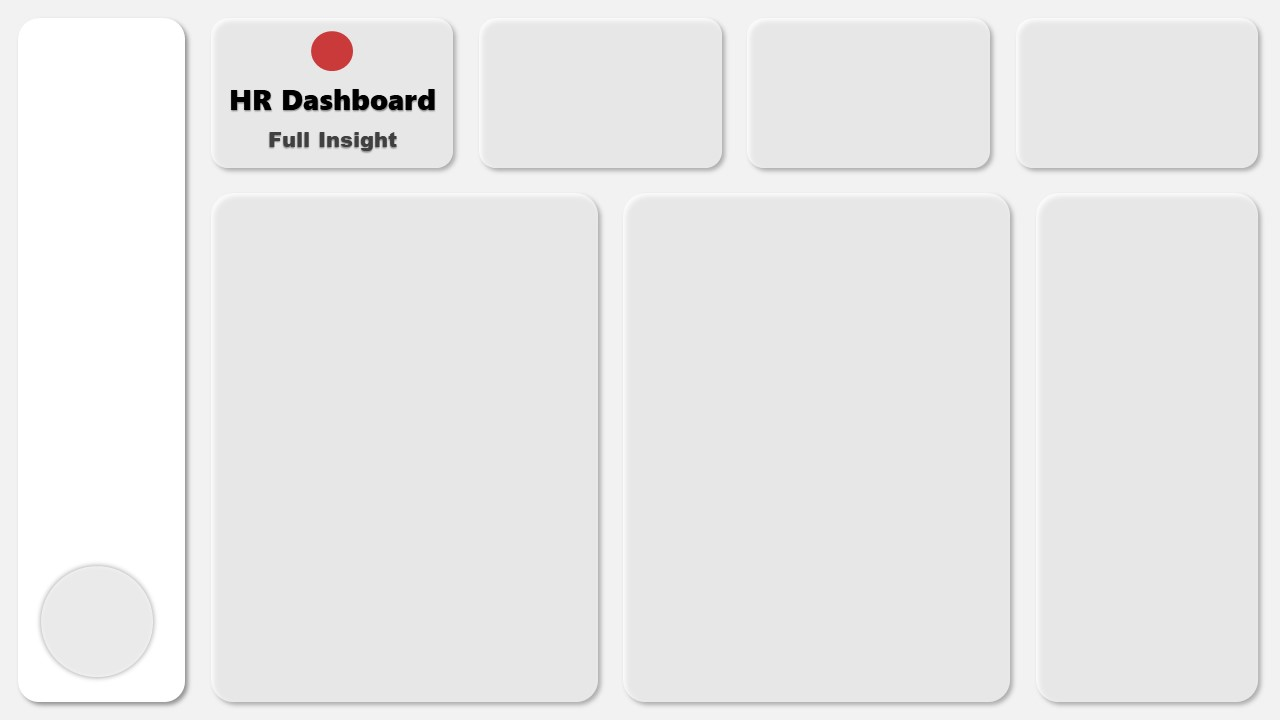

This screenshot's page, from the dashboard's own definition file:
{"tool":"powerbi","page":{"name":"Action","canvas":[1280,720],"ordinal":1},"visuals":[{"type":"card","title":"Total Employees","fields":{"Values":["All Measures.Total # of Emp"]},"box":[496,32,208,128],"z":0},{"type":"image","box":[768,32,80,112],"z":1000},{"type":"card","title":"Total Males","fields":{"Values":["All Measures.Total # of Males"]},"box":[864,32,112,80],"z":2000},{"type":"card","title":"Total Employees","fields":{"Values":["All Measures.% of Males"]},"box":[880,112,80,48],"z":3000},{"type":"image","box":[1040,32,80,112],"z":4000},{"type":"card","title":"Total Females","fields":{"Values":["All Measures.Total # of Females"]},"box":[1120,32,128,80],"z":5000},{"type":"card","title":"Total Employees","fields":{"Values":["All Measures.% of Females"]},"box":[1136,112,96,48],"z":6000},{"type":"tableEx","title":"Employees to be promoted","fields":{"Values":["HR Analytics Data.Emplyee name"]},"box":[224,208,368,496],"z":7000},{"type":"tableEx","title":"Employees to be retrenched","fields":{"Values":["HR Analytics Data.Emplyee name"]},"box":[640,208,368,480],"z":8000},{"type":"textbox","box":[1040,320,224,272],"z":9000},{"type":"pageNavigator","box":[32,256,144,176],"z":10000}]}

Visuals, with their boxes in screenshot pixels (x1, y1, x2, y2), scaled from the page's 1280x720 canvas onto the 1280x720 screenshot:
"Total Employees" card: box=[496, 32, 704, 160]
image: box=[768, 32, 848, 144]
"Total Males" card: box=[864, 32, 976, 112]
"Total Employees" card: box=[880, 112, 960, 160]
image: box=[1040, 32, 1120, 144]
"Total Females" card: box=[1120, 32, 1248, 112]
"Total Employees" card: box=[1136, 112, 1232, 160]
"Employees to be promoted" tableEx: box=[224, 208, 592, 704]
"Employees to be retrenched" tableEx: box=[640, 208, 1008, 688]
textbox: box=[1040, 320, 1264, 592]
pageNavigator: box=[32, 256, 176, 432]
